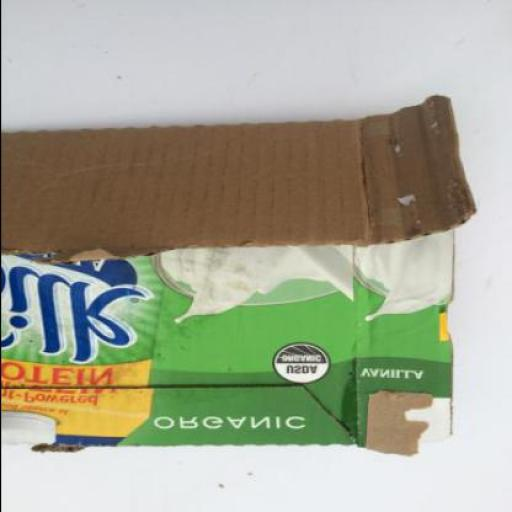cardboard: (1, 94, 478, 456), (2, 96, 476, 266)
